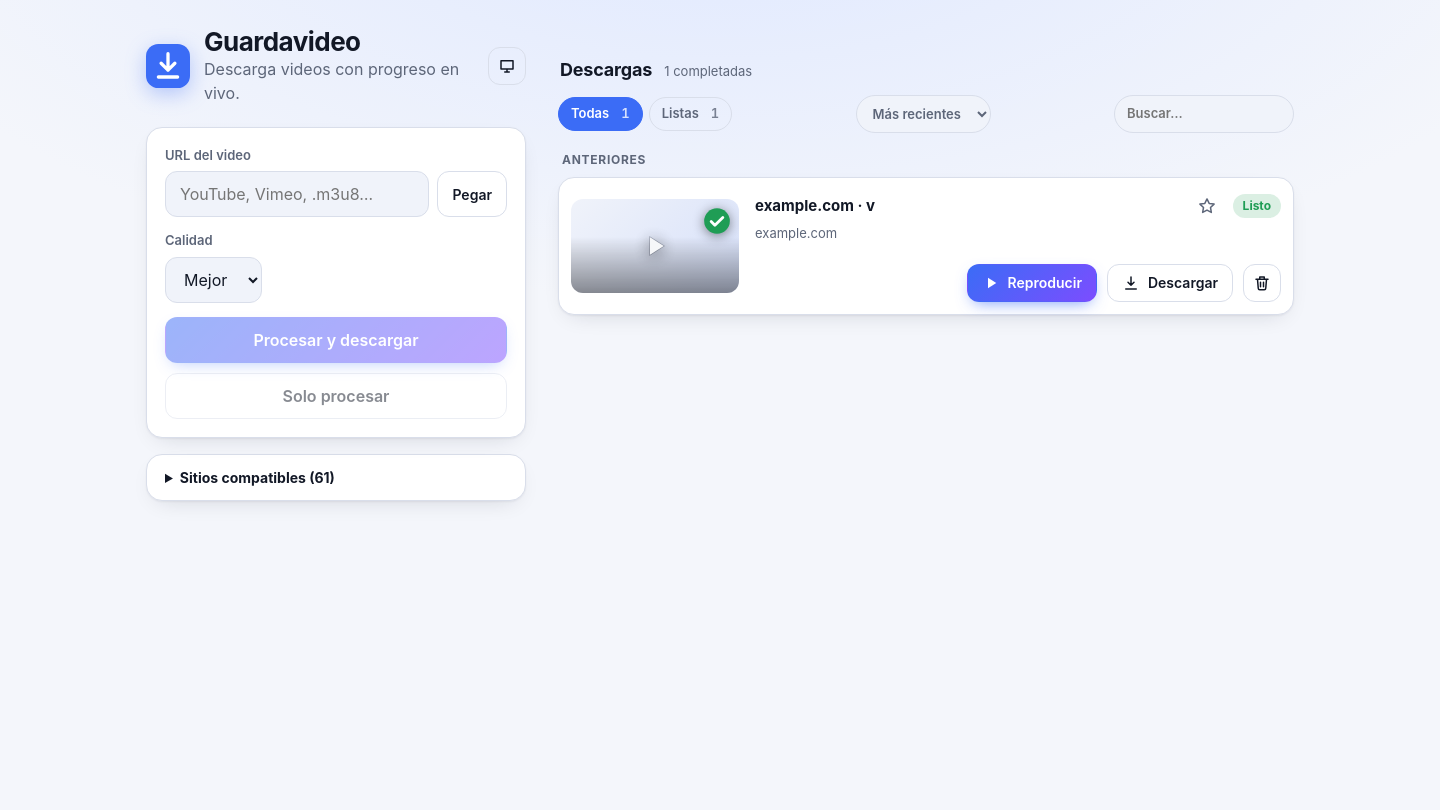
App (integración con fetch simulado) › evitar descargas repetidas › 'Procesar de nuevo' reenvía la petición con force
Expected: the text "Listo" is shown, [1233,194,1281,218]
Step 1. Type "https://example.com/v.mp4" into the field labelled "URL del video" → (297, 194), box [165,171,429,217]
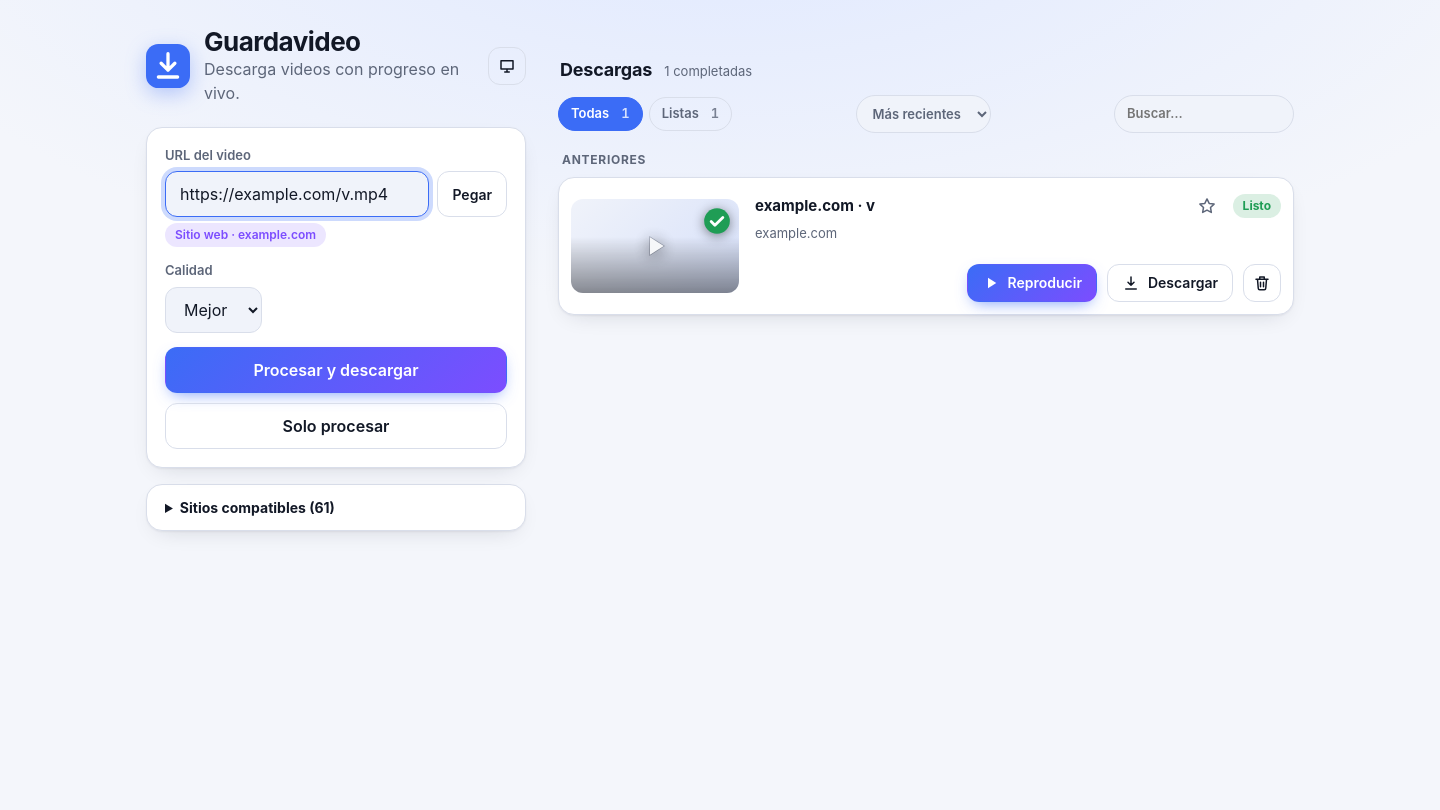
Step 2. Click the button "Procesar y descargar" → (336, 370), box [165,347,507,393]
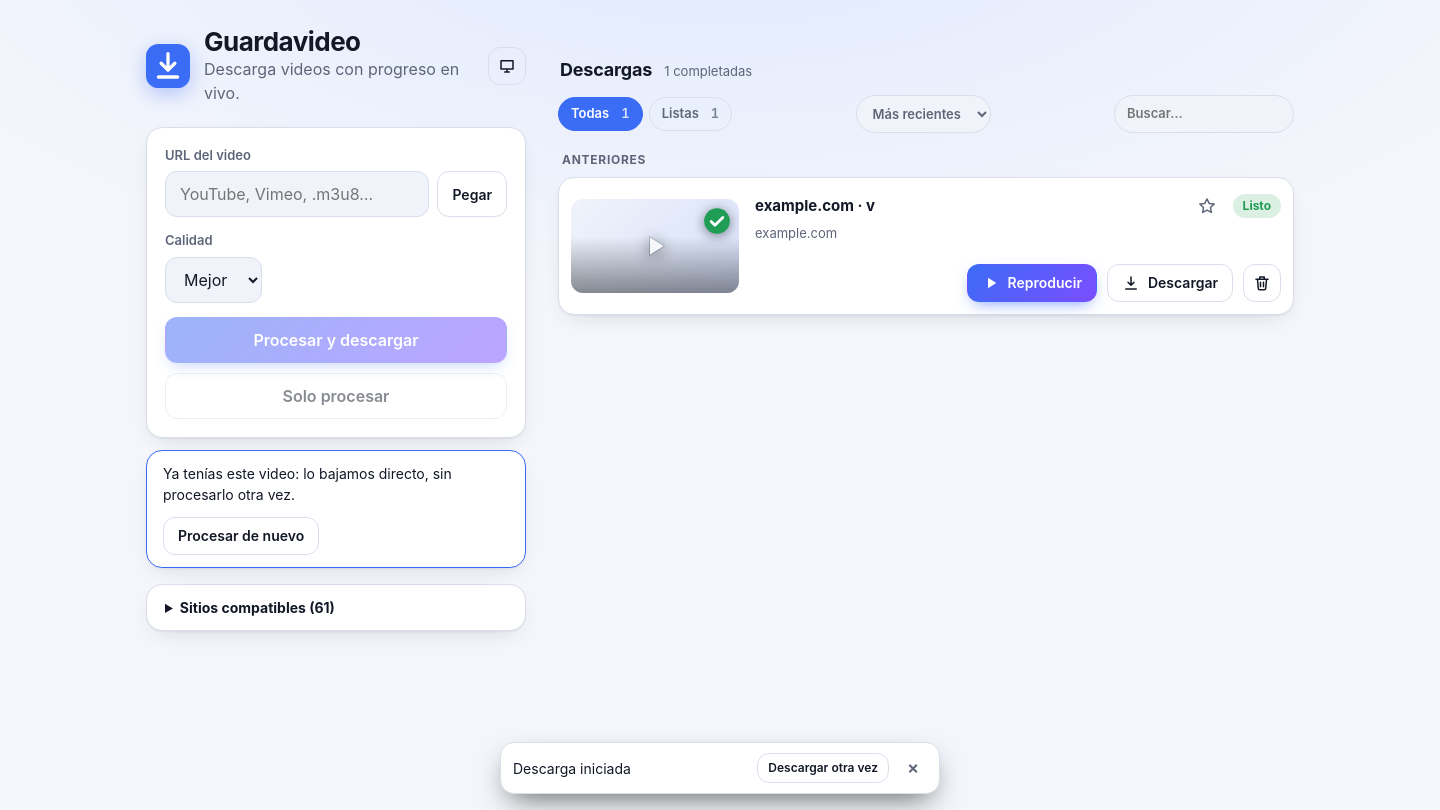
Step 3. Click the button "Procesar de nuevo" → (241, 536), box [163,517,319,555]
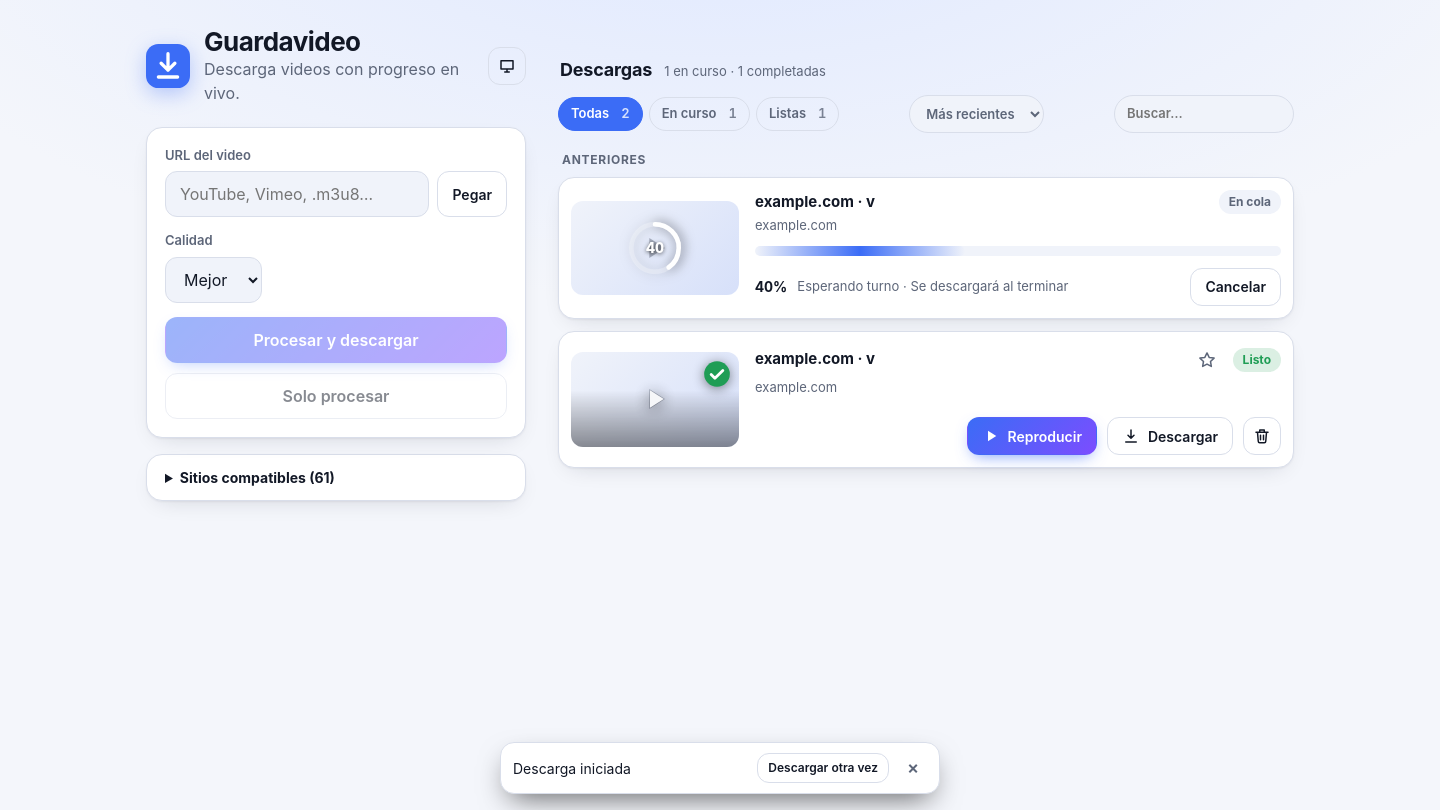
Now the text "En cola" is shown, box [1219,190,1281,214]
Now the number of list items is 2, box [558,177,1294,318]; [558,330,1294,468]
Now the text "Ya tenías este video" is gone
